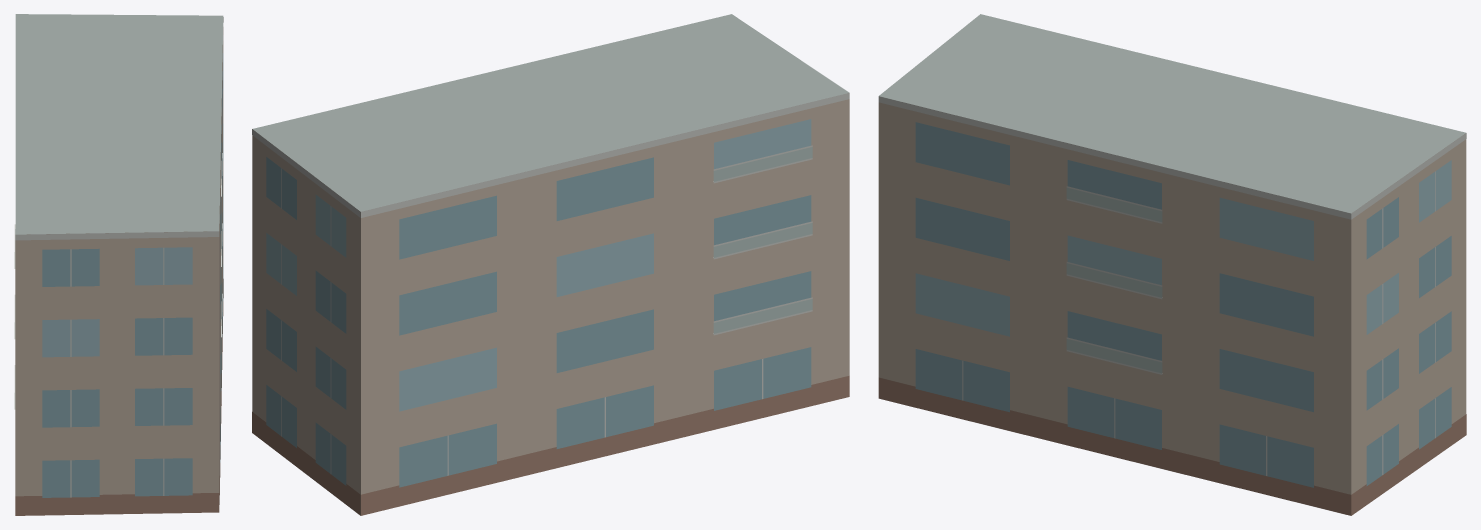
Rendered from survey-upis-32624306.glb.
The picture shows the model from 3 angles, left to right: view 1: azimuth 30°, elevation 25°; view 2: azimuth 150°, elevation 25°; view 3: azimuth 270°, elevation 25°; orthographic projection. The views are drawn at different scales.
Parts seen in each view (by area): view 1: survey-upis-32624306.tmp; view 2: survey-upis-32624306.tmp; view 3: survey-upis-32624306.tmp.
Boxes of the visible parts, left/top/right/bottom form: survey-upis-32624306.tmp: left=14, top=14, right=223, bottom=515; survey-upis-32624306.tmp: left=252, top=14, right=849, bottom=515; survey-upis-32624306.tmp: left=878, top=14, right=1466, bottom=515.
Bounding box in the file's own units: 16.85 × 11.9 × 20.98.
